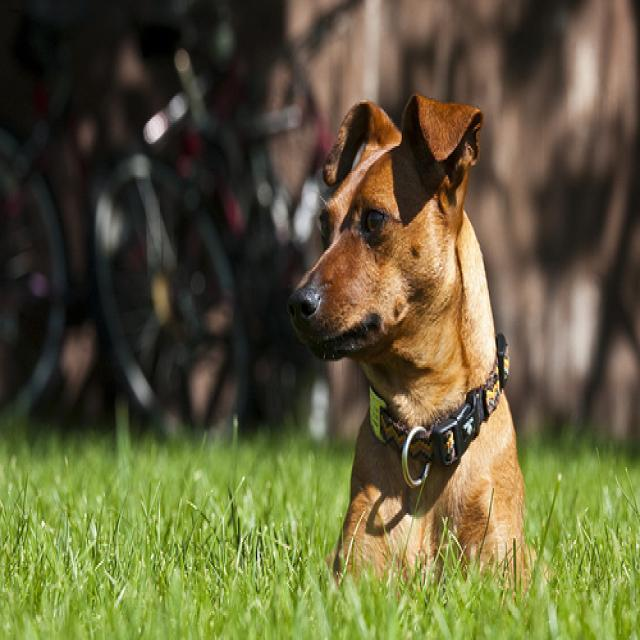dog-miniature_pinscher: (278, 88, 541, 602)
